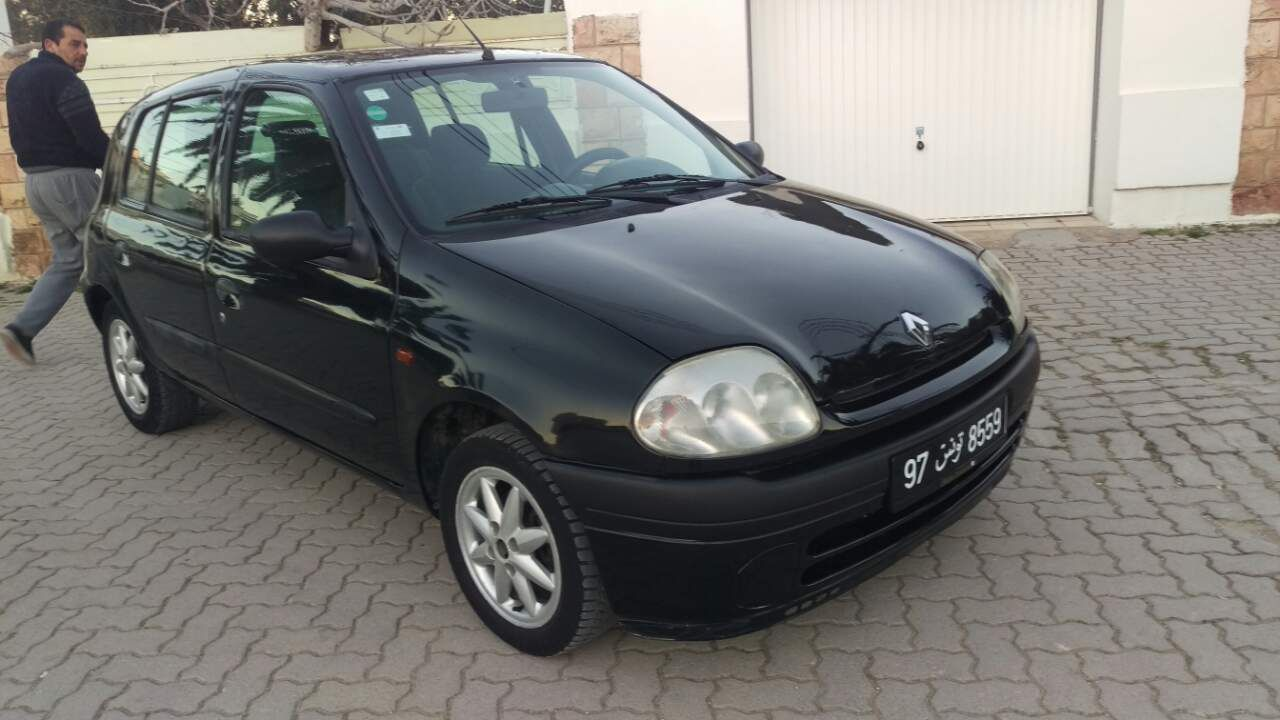LP: (885, 389, 1013, 504)
